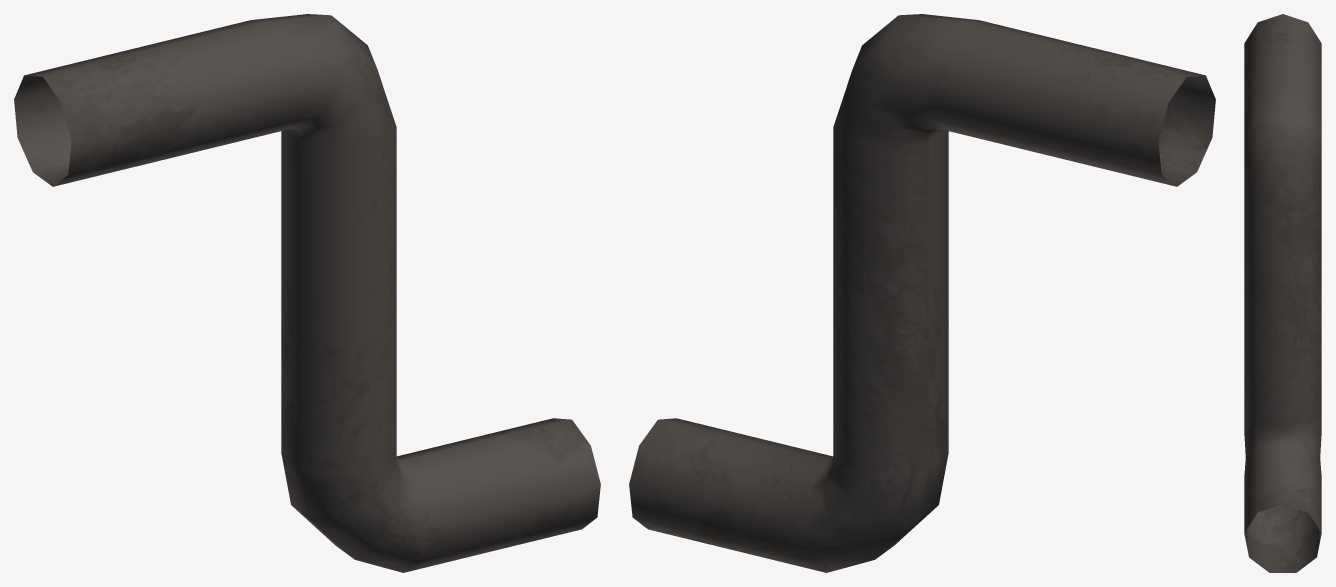
3 views of the same model, side by side, from view 1: azimuth 30°, elevation 25°; view 2: azimuth 150°, elevation 25°; view 3: azimuth 270°, elevation 25° (orthographic). The views are drawn at different scales.
Visible parts, largest first — view 1: Object060; view 2: Object060; view 3: Object060.
Boxes of the visible parts, x1=… form: Object060: x1=14, y1=14, x2=600, y2=572; Object060: x1=629, y1=14, x2=1215, y2=572; Object060: x1=1244, y1=14, x2=1321, y2=572.
Bounding box in the file's own units: 35.35 × 36.66 × 6.66.
